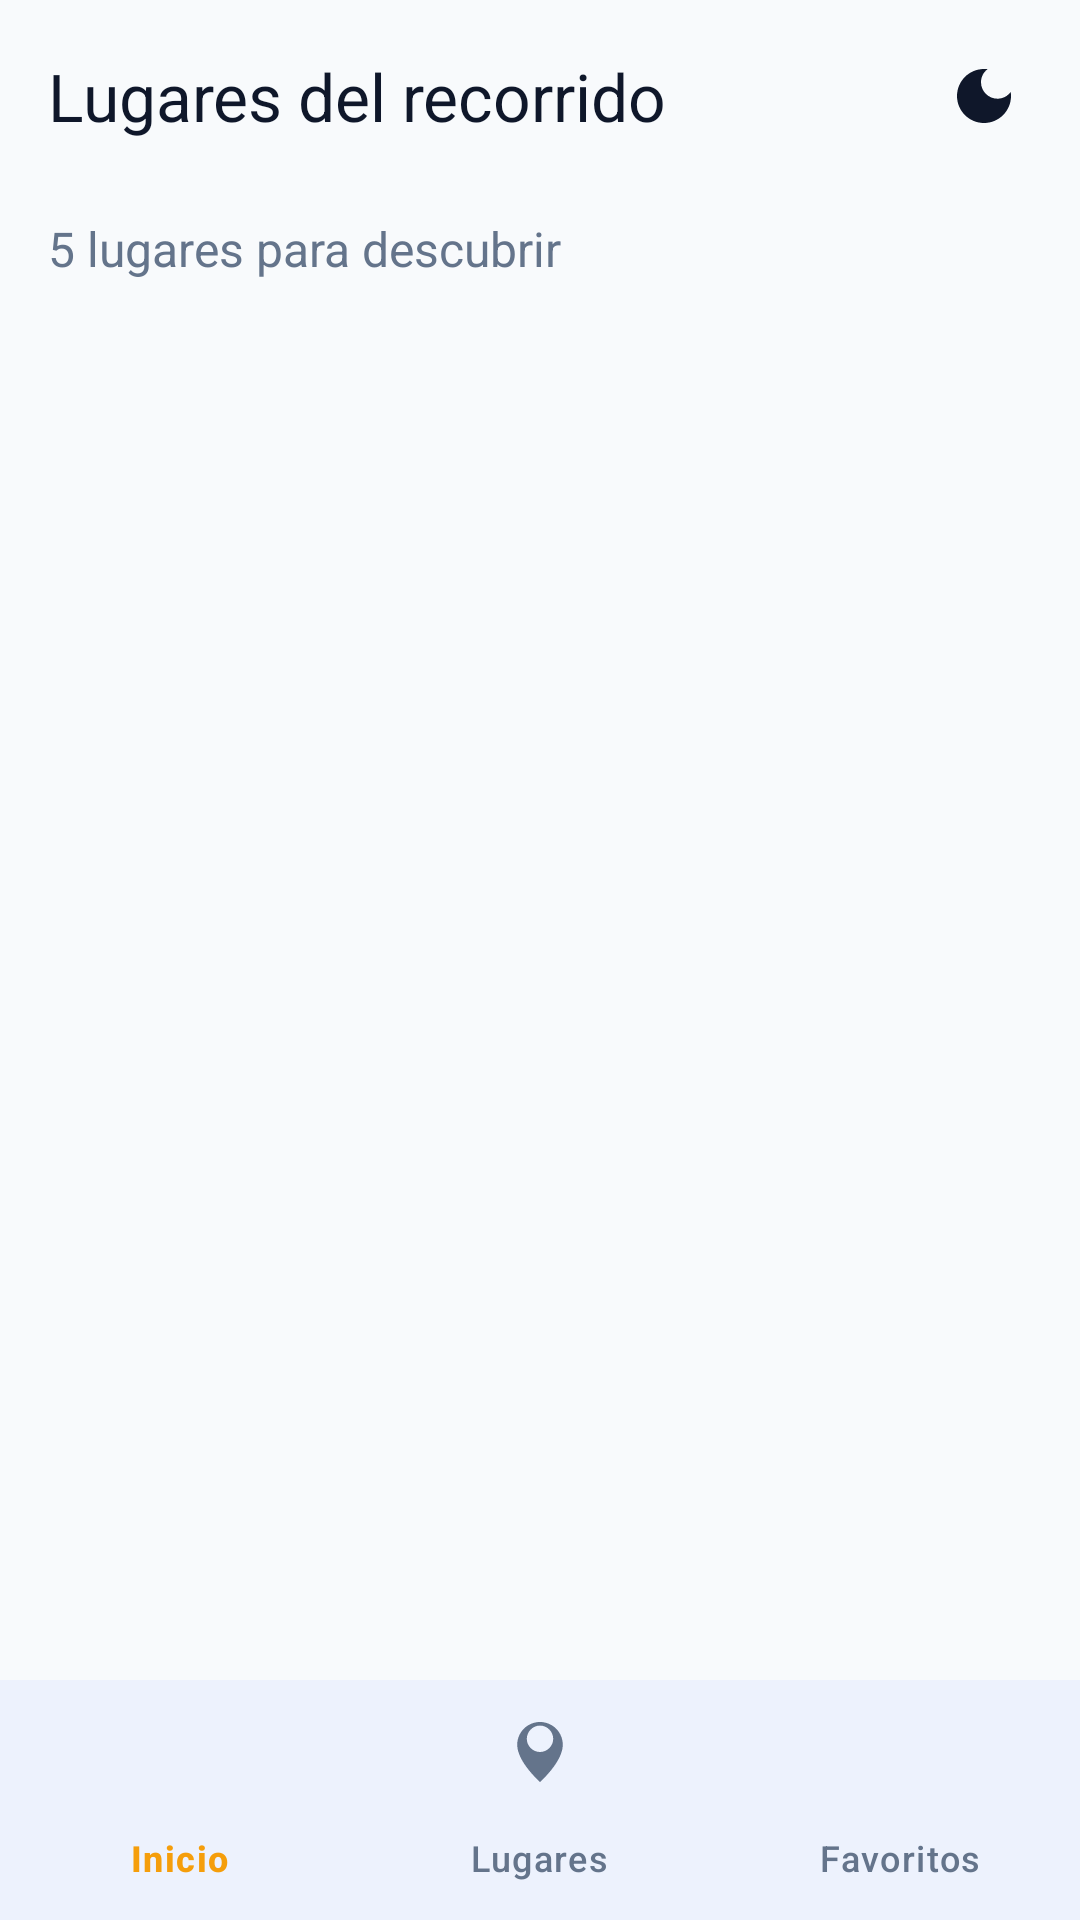

Named icons in this screenshot (1080px x 1920px) and their bounding boxes, (x1, y1, x2, y2):
Cambiar Tema: (957, 69, 1011, 123)
